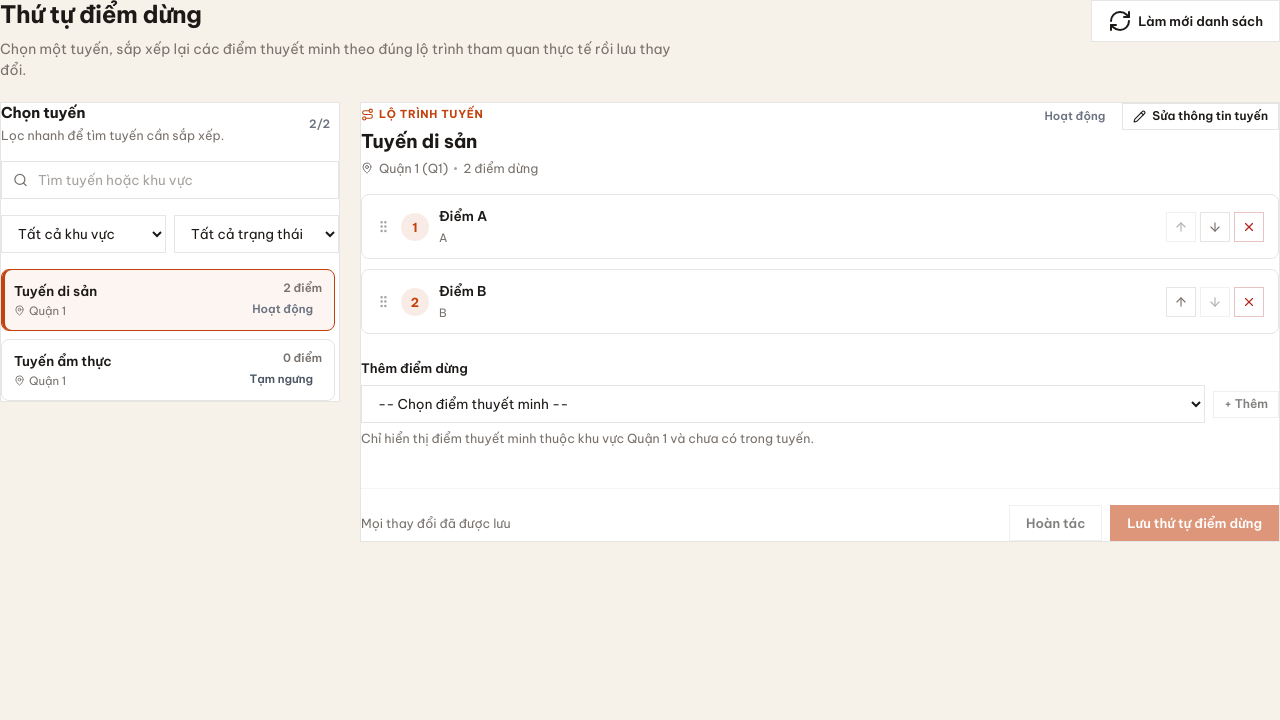
Test: RouteStopsPage › xác nhận trước khi chuyển tuyến nếu đang có thay đổi chưa lưu
This screenshot has width=1280, height=720.
Expected: the text "Điểm A" is shown, [439,207,487,225]
Expected: the text "Điểm B" is shown, [439,282,486,300]
Click the button named "di chuyển điểm b lên trên". click: (1181, 302)
box: [1166,287,1196,317]
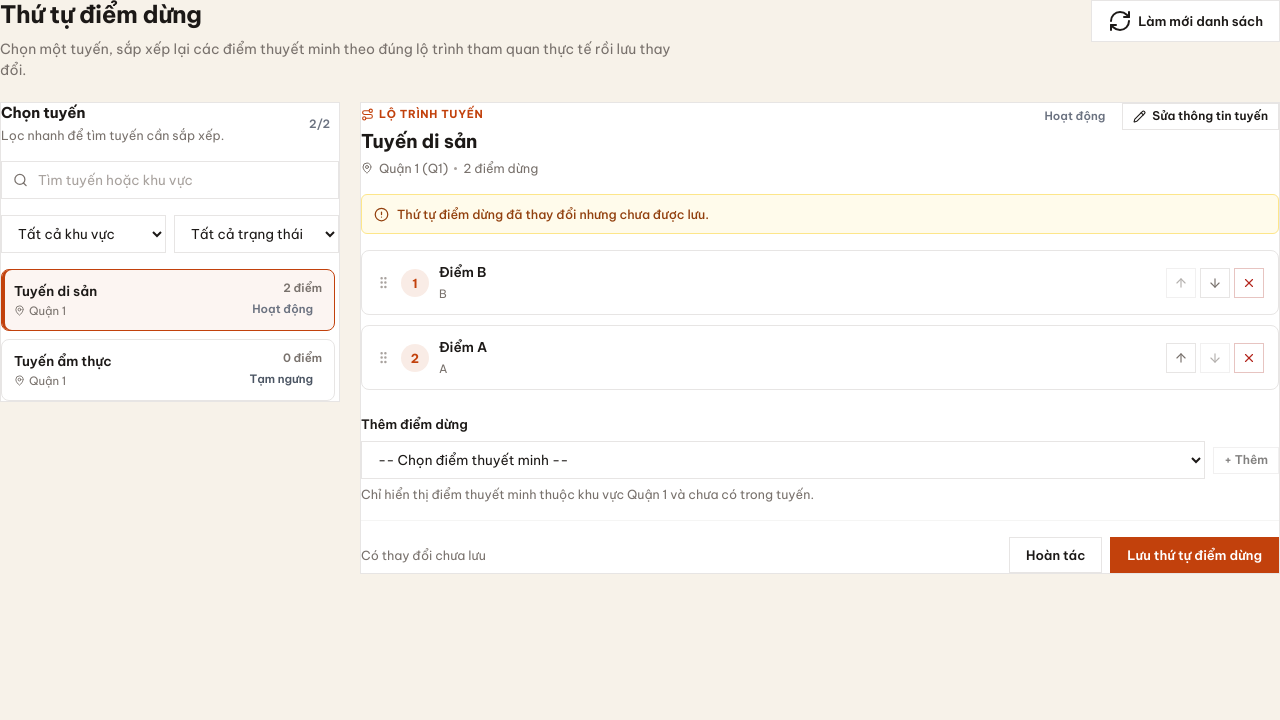
Click the button "Tuyến ẩm thực Quận 1 0 điểm Tạm ngưng". click: (63, 361)
box: [1,339,335,401]
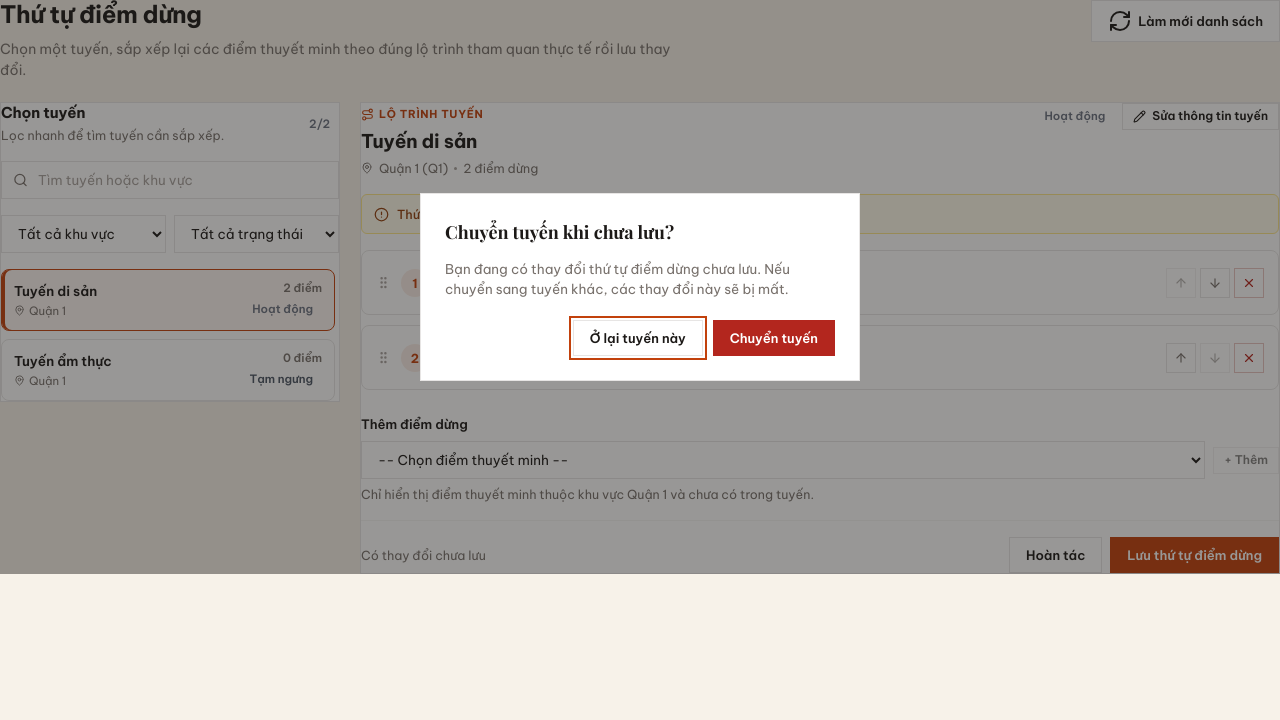
Result: the dialog is shown at [420,193,860,381]
Result: the heading "Chuyển tuyến khi chưa lưu?" is shown at [445,220,674,244]
